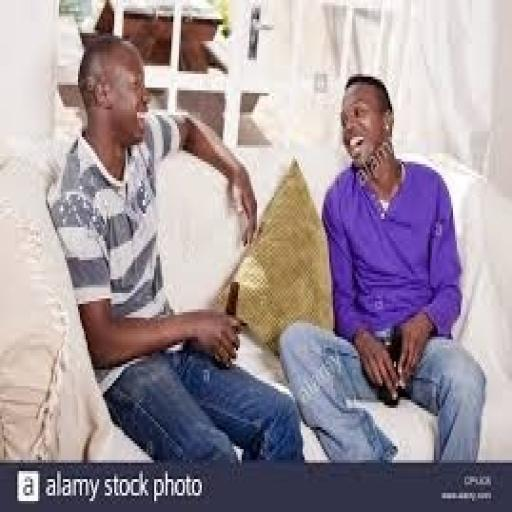sitting: (46, 30, 304, 466), (276, 71, 487, 463)
